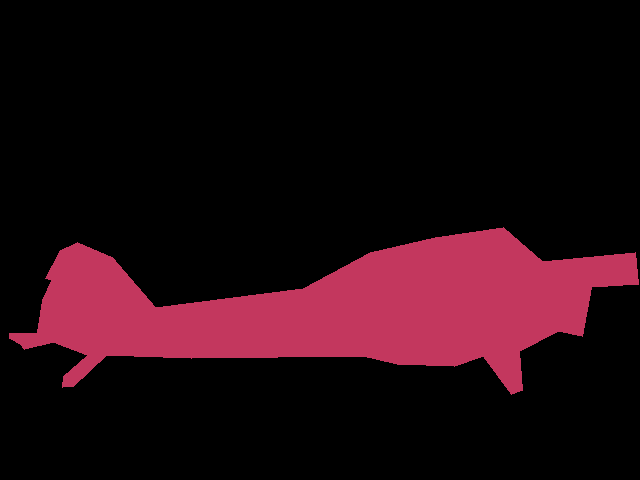Airplane: (9, 227, 638, 395)
